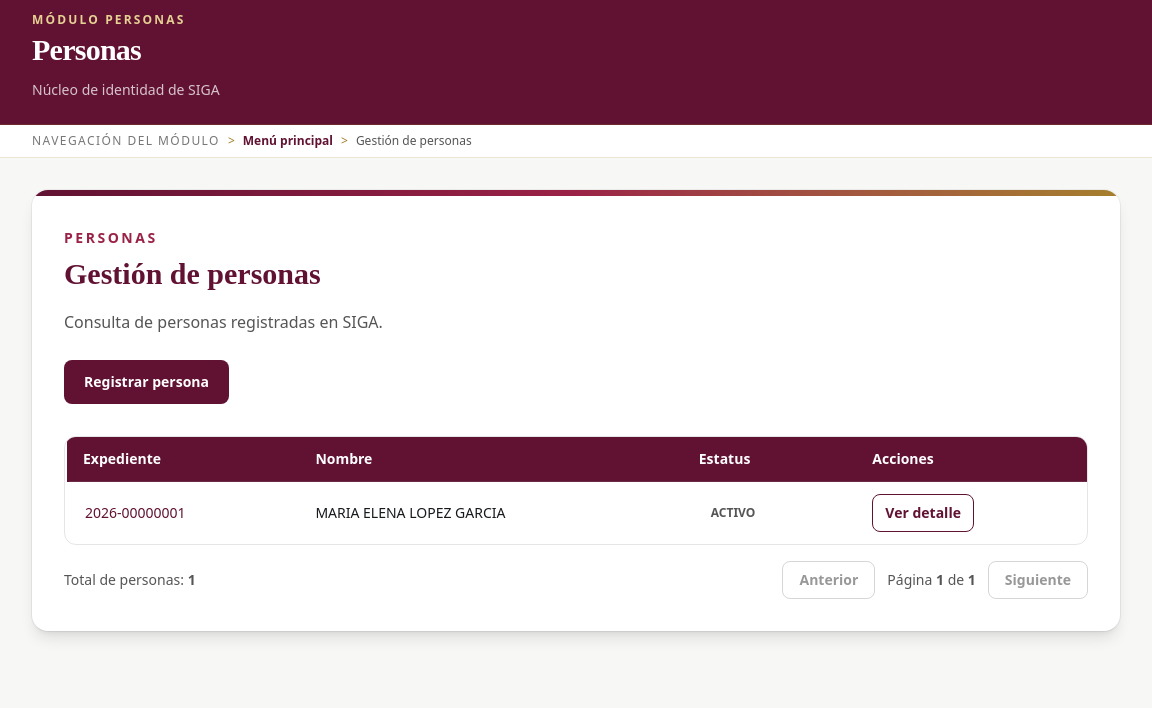
Test: PersonasPageComponent › cierra el detalle sin volver a consultar la persona
Step 1. Click the button with test id "persona-view-detail" → [923, 513], box [872,494,974,532]
(page scrolled)
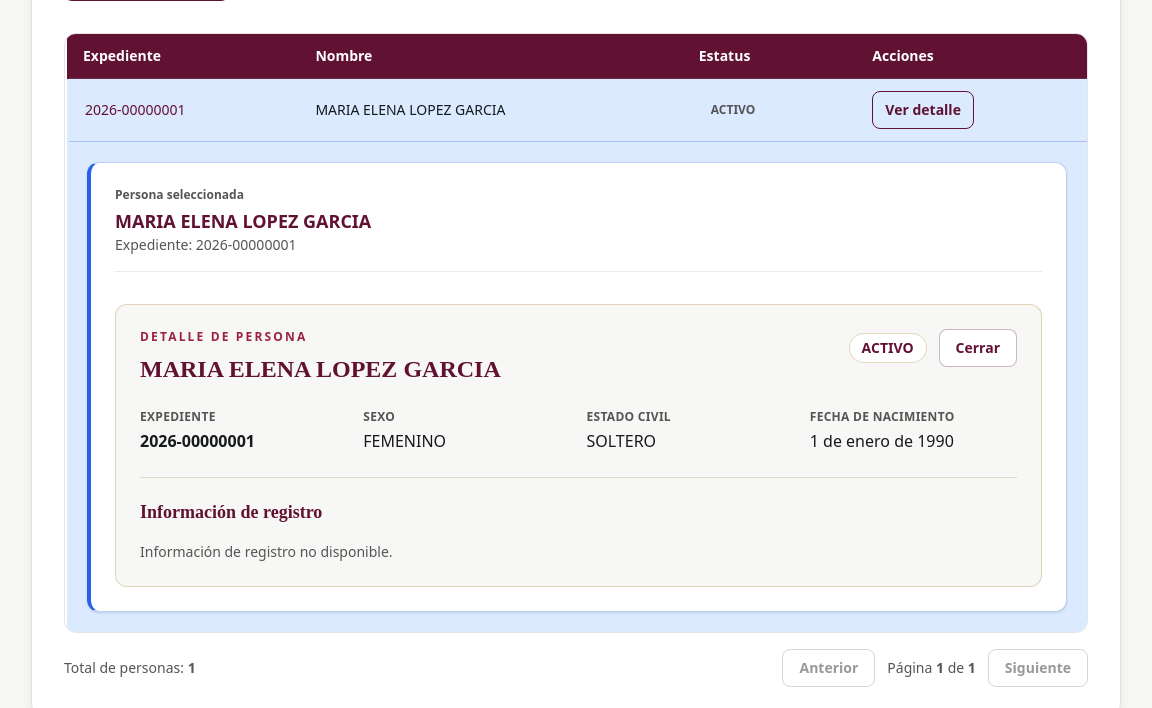
Expected: the element with test id "persona-detail" is shown, [115,304,1042,587]
Expected: the button with test id "persona-detail-close" is shown
Step 2. Click the button with test id "persona-detail-close" → [978, 348], box [939,329,1017,367]
(page scrolled)
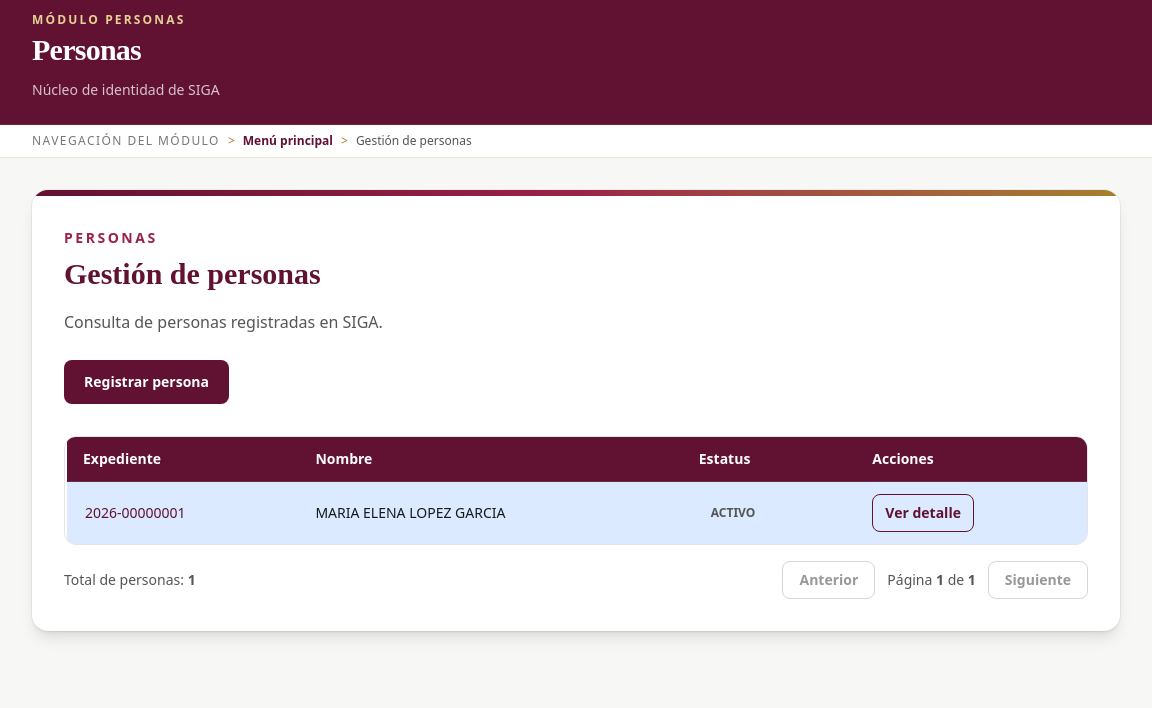
Expected: the element with test id "persona-detail" is gone
